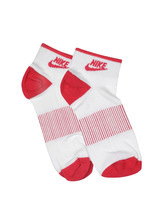sock: (21, 42, 146, 182)
